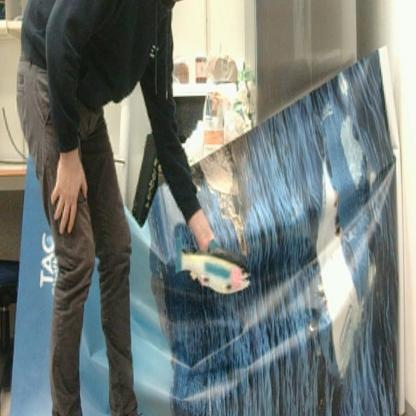rubberfish: (175, 233, 252, 298)
